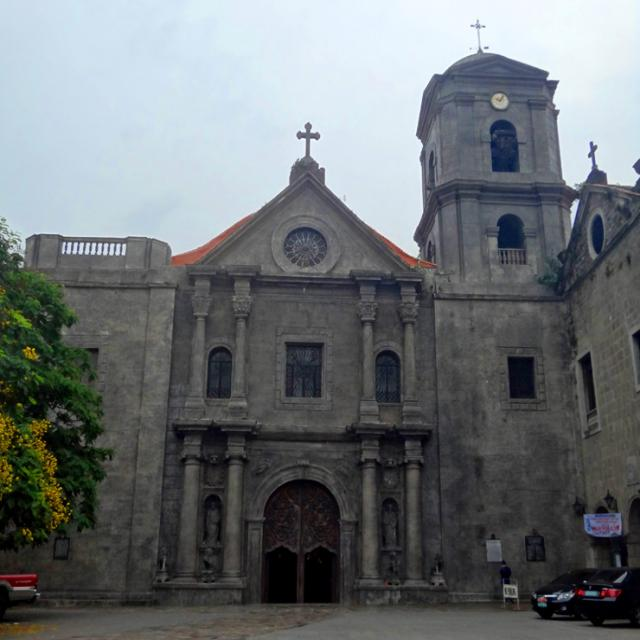San Agustin Church: (22, 45, 586, 619)
